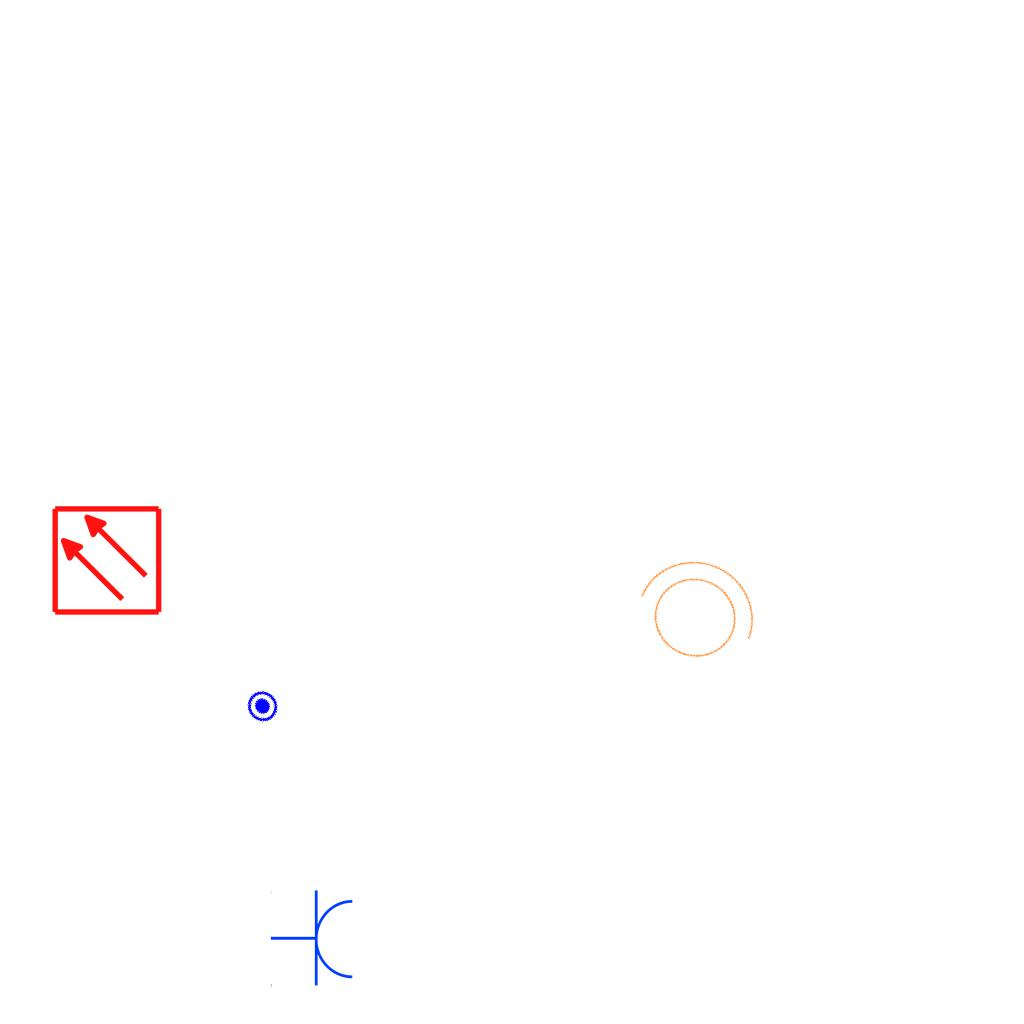RMO_Rauchmelder_optischer: (50, 504, 163, 617)
Scheinwerfer_fuer_Alarmbeleuchtung: (611, 535, 777, 689)
Schukosteckdose_einfach: (270, 889, 357, 989)
Taster: (240, 682, 287, 729)
